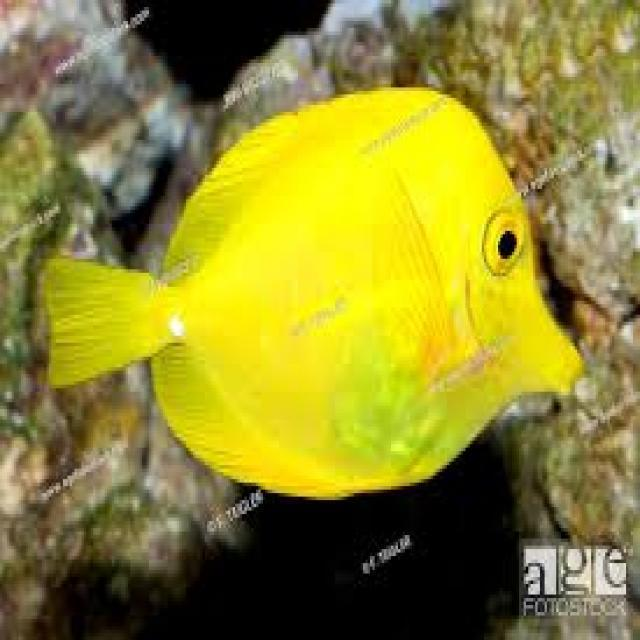TangFish: (40, 83, 584, 499)
